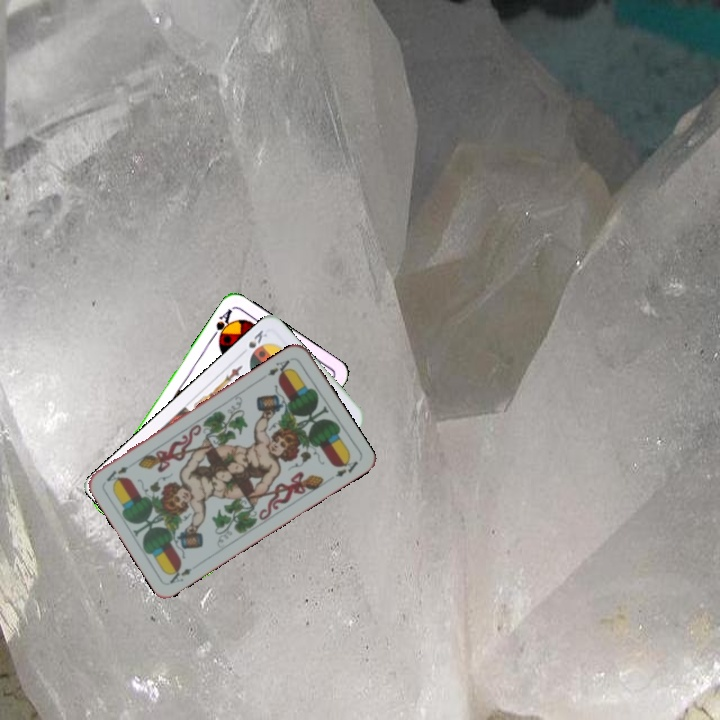EA: (263, 356, 295, 379), (165, 562, 194, 586)
SA: (208, 304, 235, 344)
SK: (244, 326, 270, 351)
